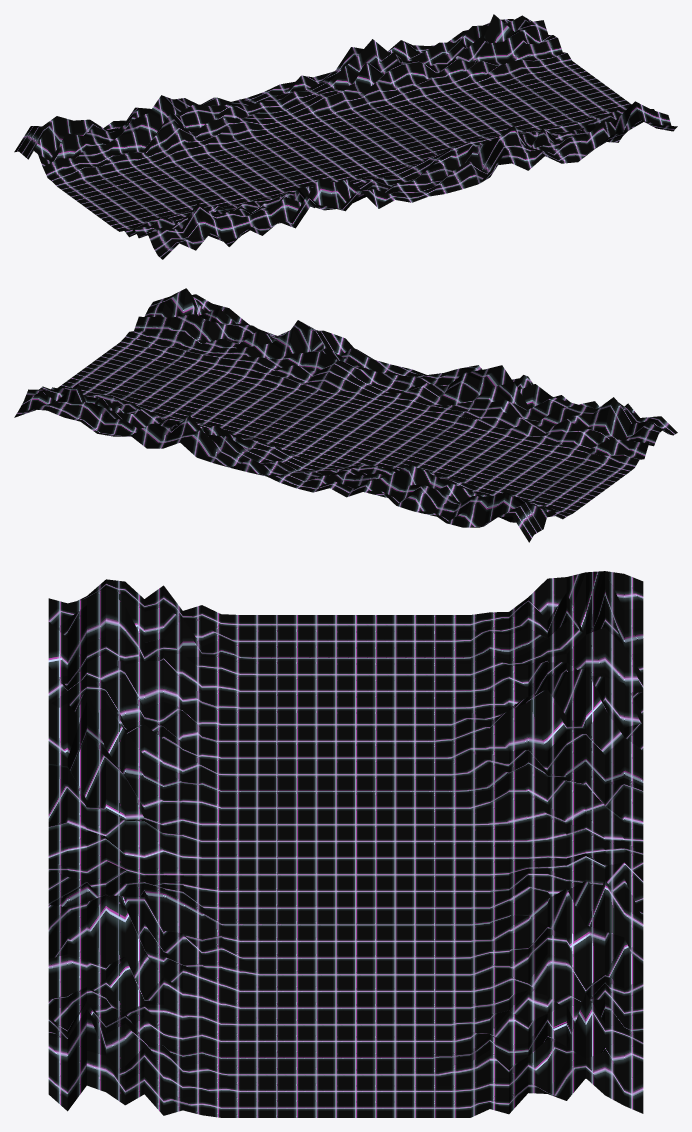
File: 3dmountains.obj
3 views of the same model, one above another, from view 1: azimuth 30°, elevation 25°; view 2: azimuth 150°, elevation 25°; view 3: azimuth 270°, elevation 25° (orthographic). The views are drawn at different scales.
Parts seen in each view (by area): view 1: Plane.001; view 2: Plane.001; view 3: Plane.001.
Part boxes in pixels (x1,y1,x2,y2): Plane.001: [14, 14, 677, 259]; Plane.001: [14, 288, 677, 542]; Plane.001: [48, 571, 643, 1117].
Size of the model in its own units: 40 by 2.83 by 20.
